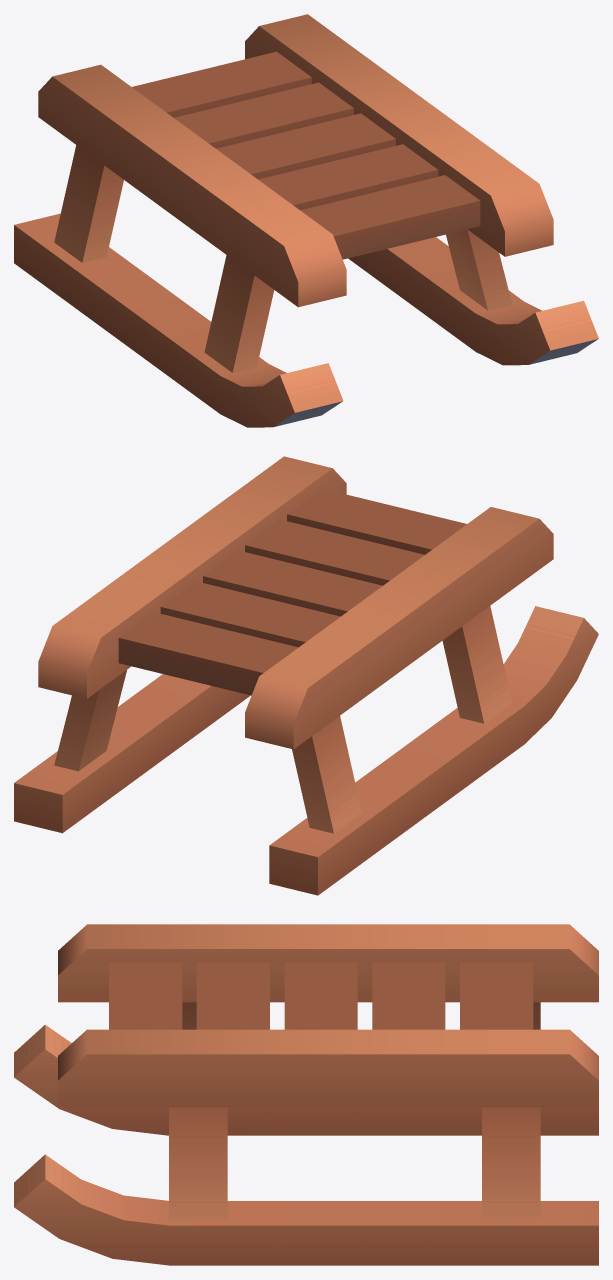
Rendered from kenney-holiday-sled-long.glb.
3 renders of one model, top to bottom at view 1: azimuth 30°, elevation 25°; view 2: azimuth 150°, elevation 25°; view 3: azimuth 270°, elevation 25°, orthographic. The views are drawn at different scales.
Parts seen in each view (by area): view 1: sled-long; view 2: sled-long; view 3: sled-long.
Boxes of the visible parts, x1,y1,x2,y2 form: sled-long: [14, 14, 598, 427]; sled-long: [14, 456, 598, 895]; sled-long: [14, 924, 598, 1265].
Size of the model in its own units: 0.625 by 0.3753 by 1.
Materials: 1 (1 with a texture image).
